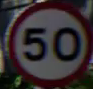Speed limit: (4, 3, 87, 82)
